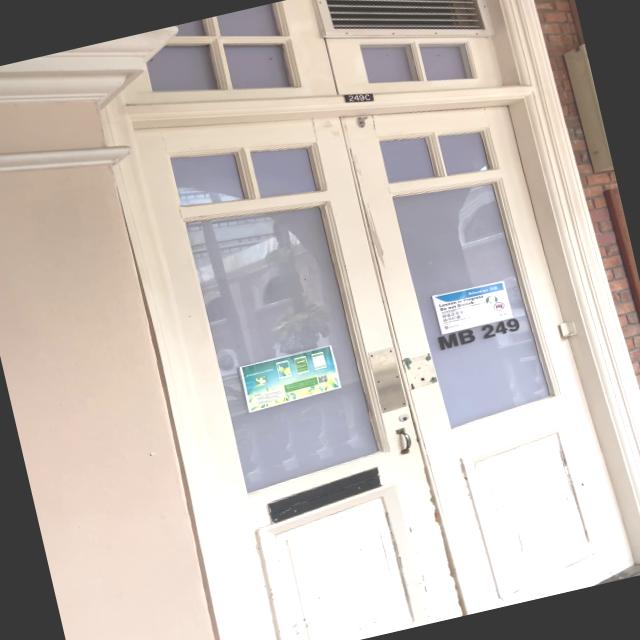room249c: (338, 85, 376, 108)
room249cWindow: (434, 316, 522, 352)
